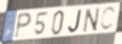0: (50, 9, 66, 36)
5: (33, 12, 49, 38)
C: (99, 5, 117, 31)
J: (68, 9, 83, 34)
N: (82, 6, 101, 34)
P: (13, 12, 33, 40)
